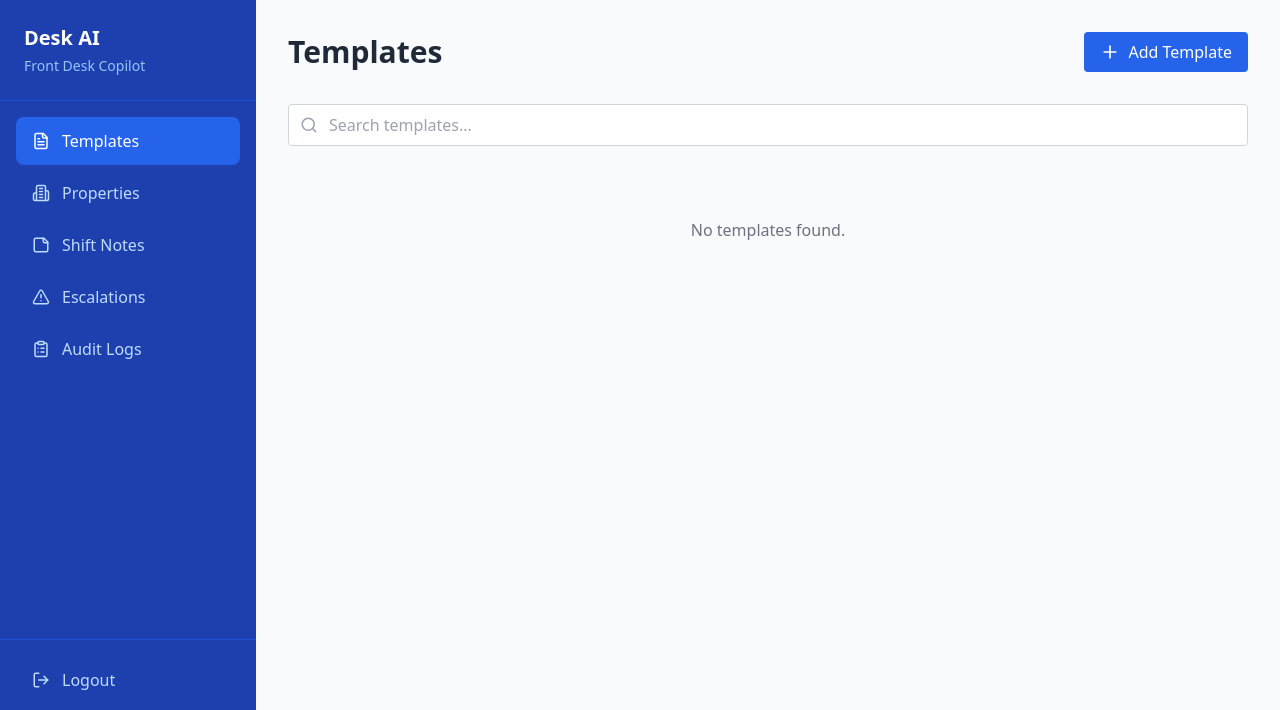
it: server validation messages › shows the server message when a template cannot be saved
The width and height of the screenshot is (1280, 710).
Click the button "Add Template".
click(1166, 52)  # box [1084, 32, 1248, 72]
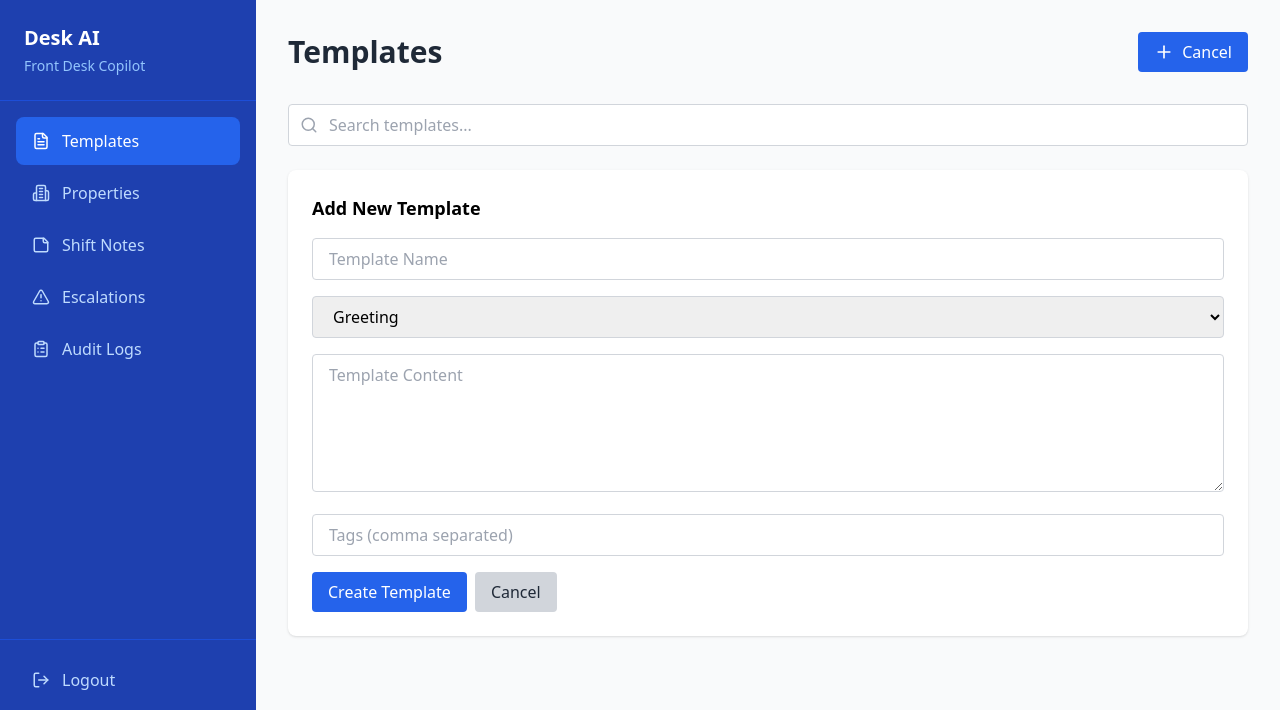
Type "Greeting" into the field with placeholder "Template Name".
click(768, 259); type("Greeting")  # box [312, 238, 1224, 280]
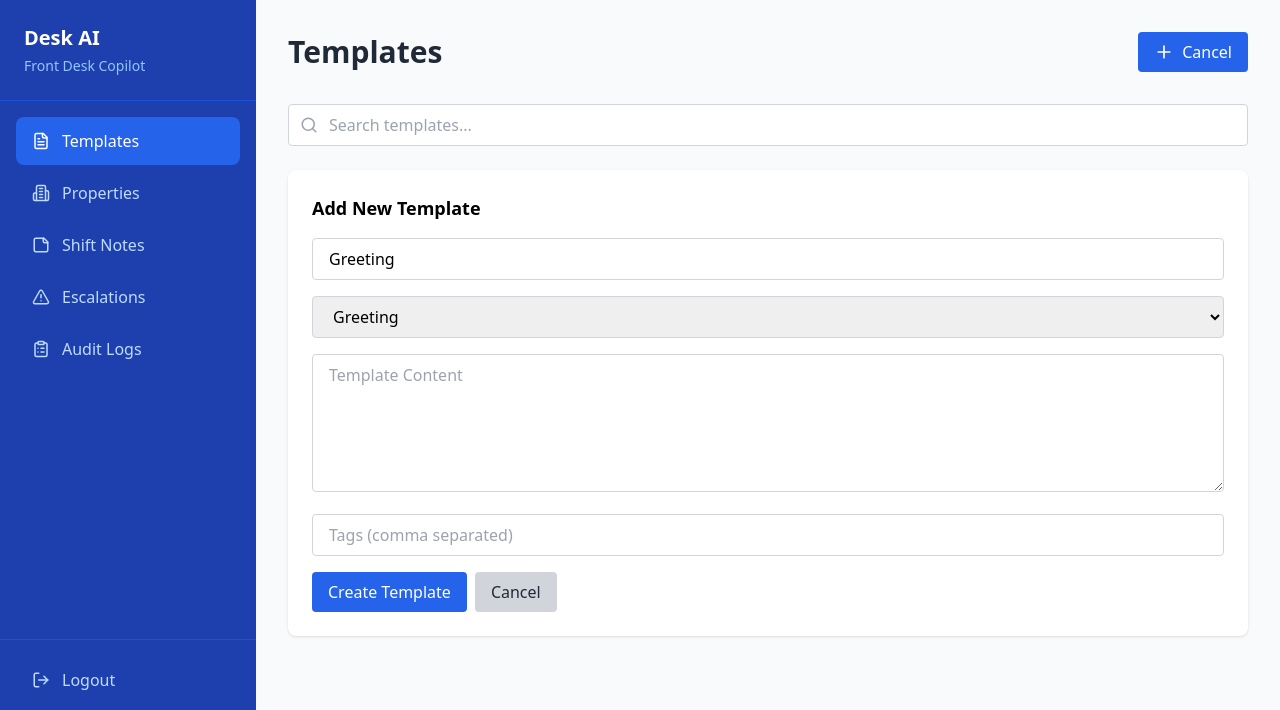
Type "Hello there" into the text box with placeholder "Template Content".
click(768, 423); type("Hello there")  # box [312, 354, 1224, 492]
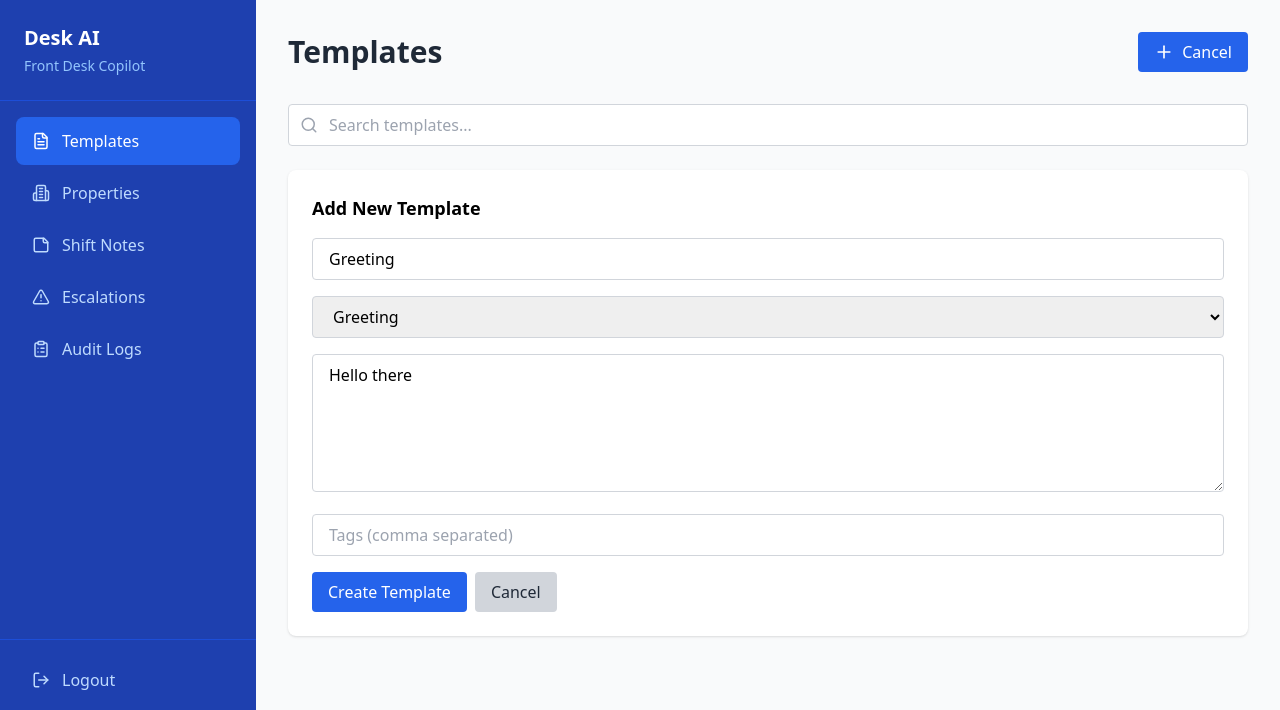
Click the button "Create Template".
click(389, 592)  # box [312, 572, 467, 612]
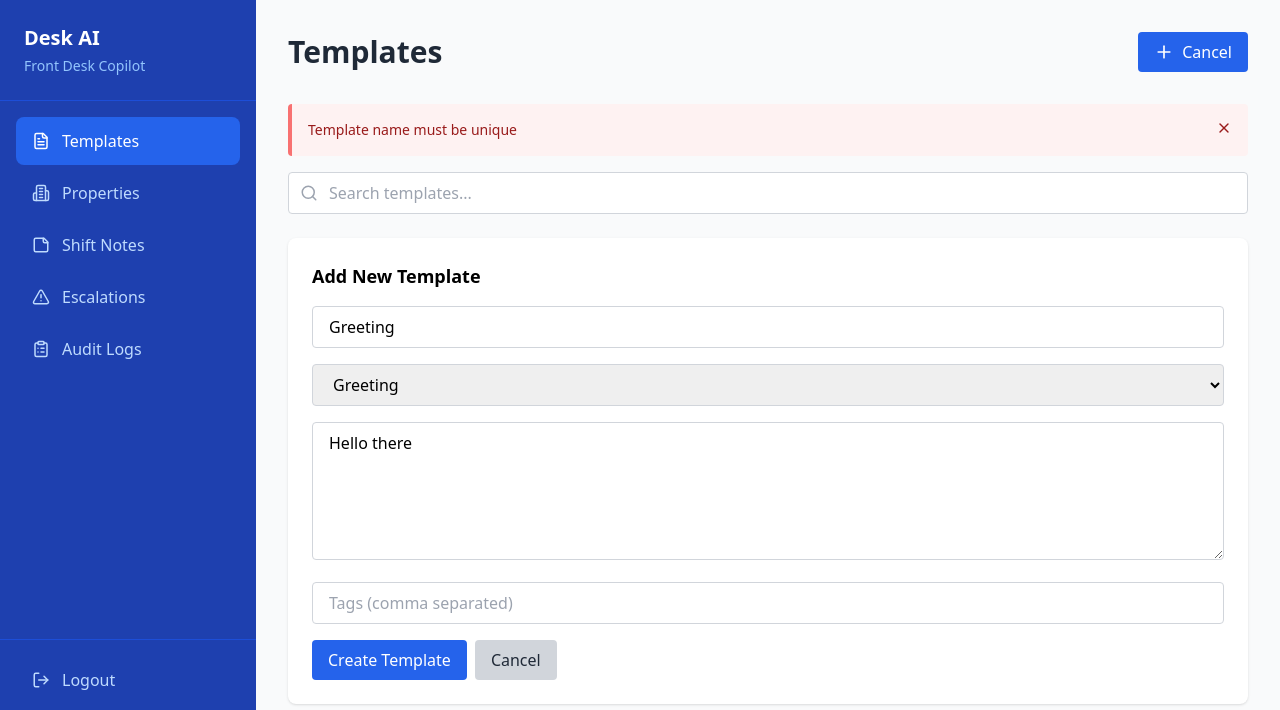
Expected: the text "Template name must be unique" is shown, [308, 120, 517, 140]
